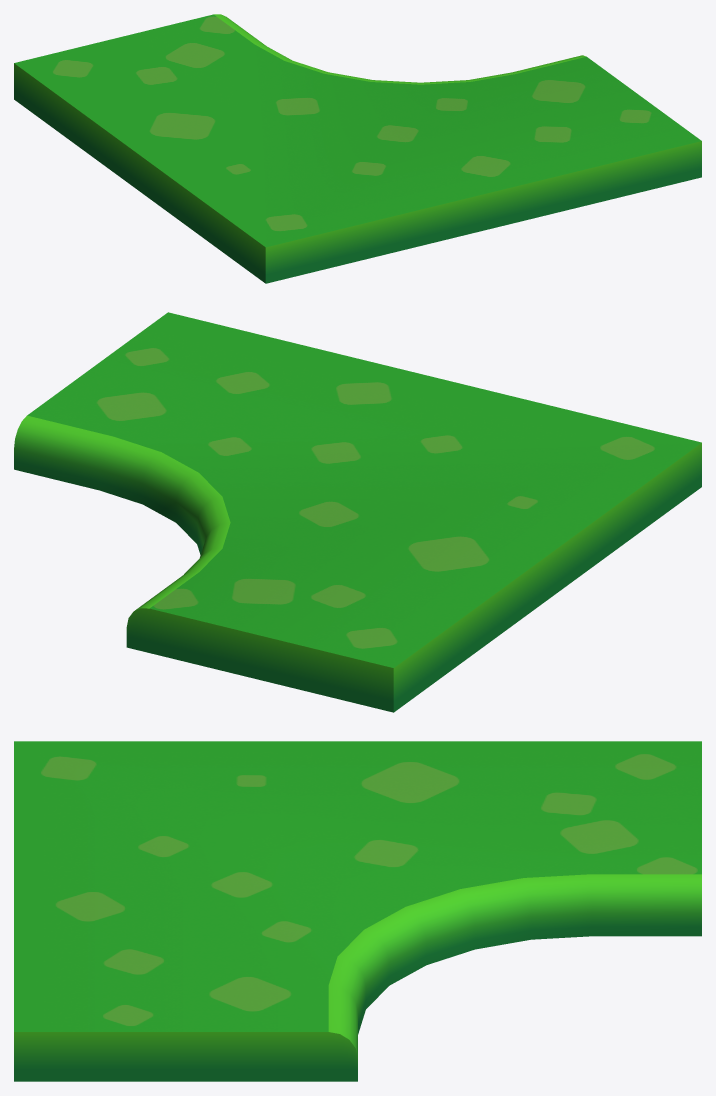
The model's file is GrassFloor_InnerCorner_1.fbx.
3 views of the same model, one above another, from view 1: azimuth 30°, elevation 25°; view 2: azimuth 150°, elevation 25°; view 3: azimuth 270°, elevation 25° (orthographic). The views are drawn at different scales.
Visible parts, largest first — view 1: GrassFloor_InnerCorner_1; view 2: GrassFloor_InnerCorner_1; view 3: GrassFloor_InnerCorner_1.
Part boxes in pixels (box(x1,y1,x2,y2)): GrassFloor_InnerCorner_1: box(14, 14, 701, 283); GrassFloor_InnerCorner_1: box(14, 312, 701, 712); GrassFloor_InnerCorner_1: box(14, 741, 701, 1081).
Size of the model in its own units: 400 by 31.87 by 400.
